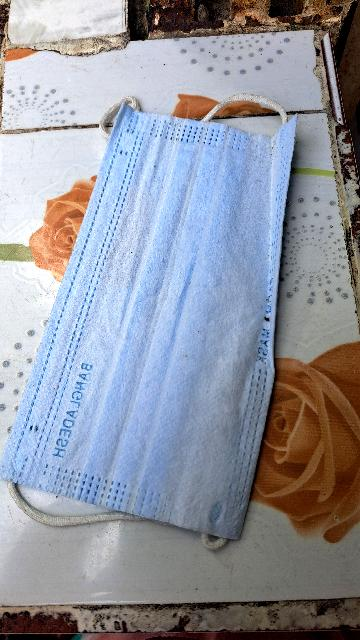mask: (3, 75, 308, 575)
